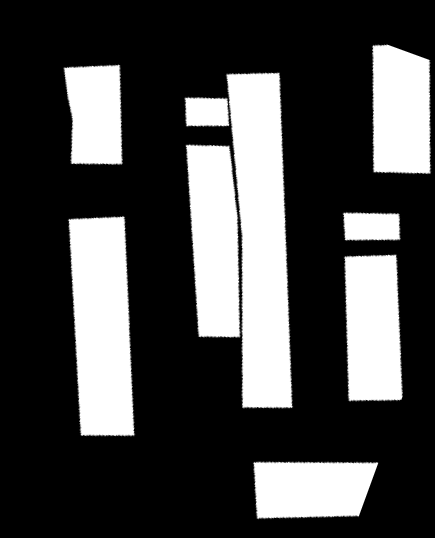parkingspot: (226, 73, 293, 408), (68, 216, 135, 436), (186, 145, 240, 338), (344, 255, 403, 401), (372, 45, 431, 174), (253, 462, 378, 519), (64, 65, 123, 165), (343, 212, 400, 241), (185, 97, 229, 127)
